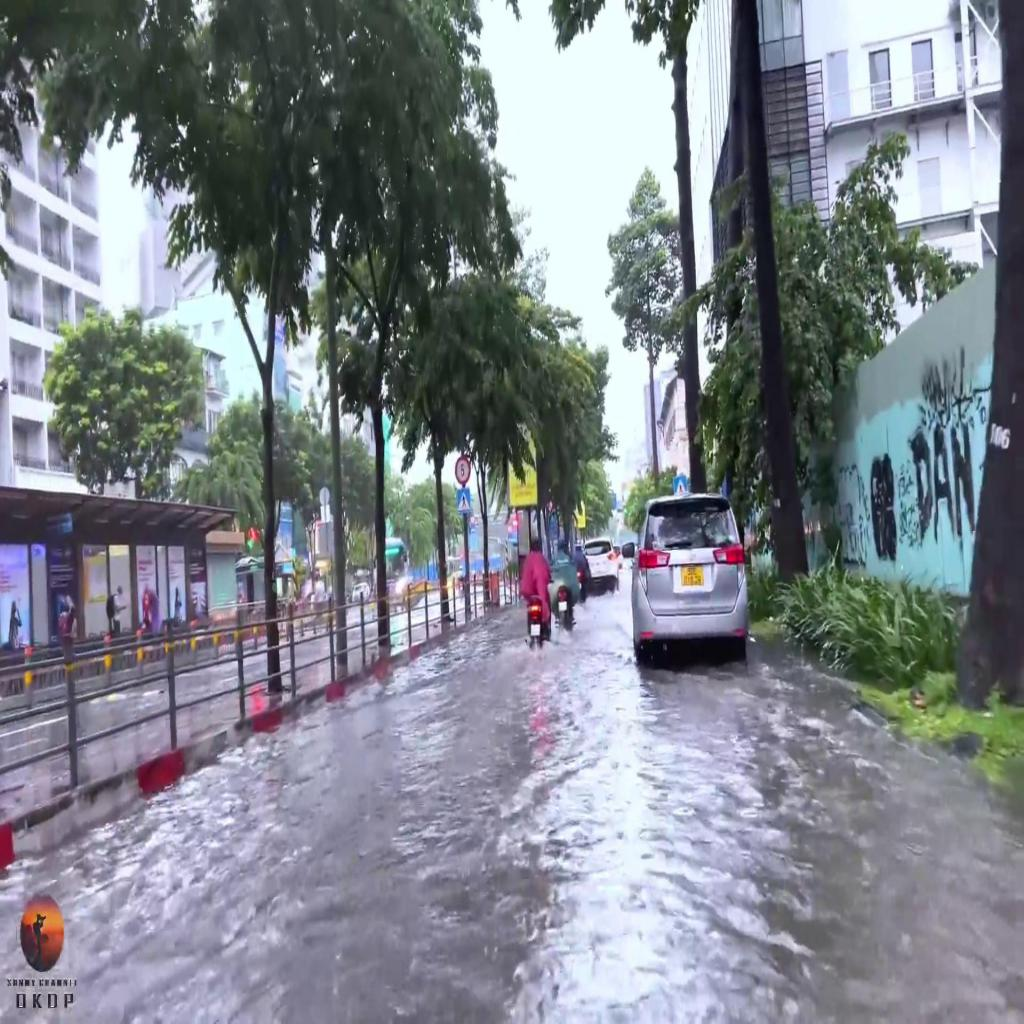duong_nguoi_di_bo_sang_ngang: (456, 487, 471, 512), (674, 477, 688, 496)
khac: (454, 458, 470, 484)
